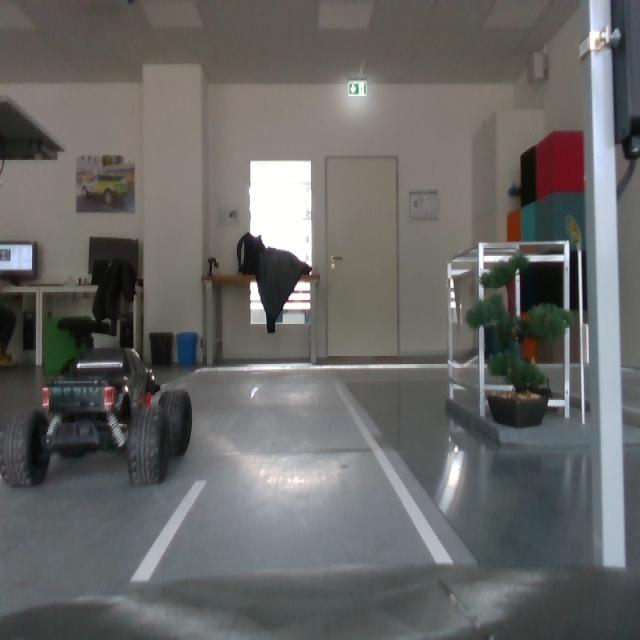car: (1, 341, 197, 490)
potted plant: (464, 254, 579, 396)
traffic light: (611, 1, 640, 162)
